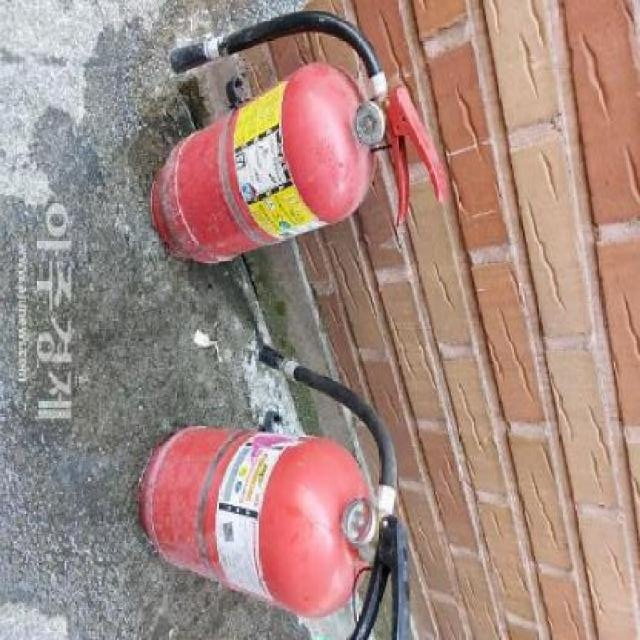fire extinguisher: (143, 341, 410, 640), (149, 10, 446, 264)
